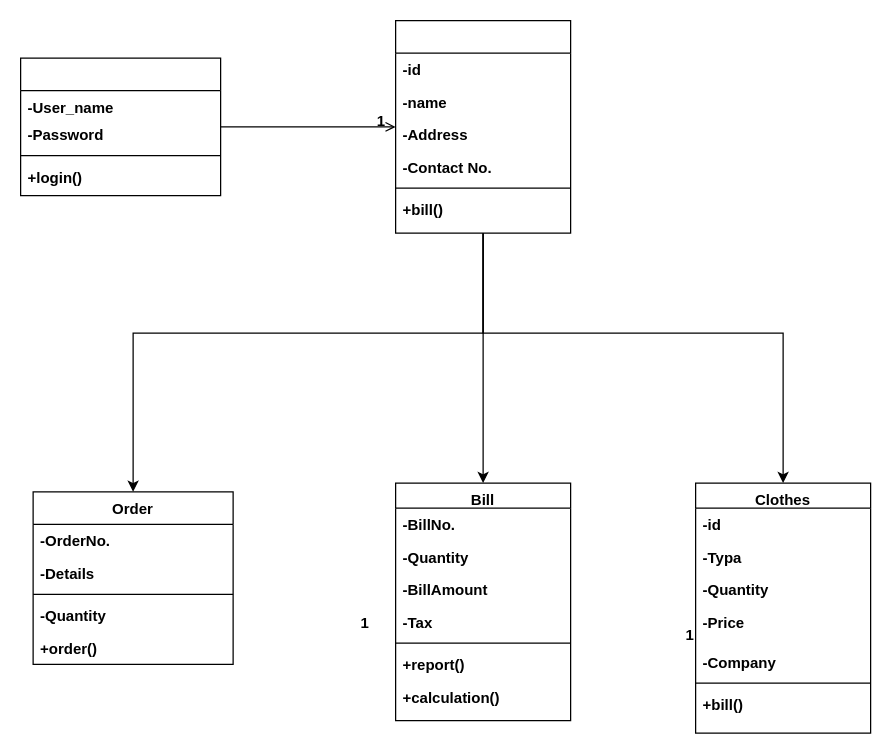
Image size: 891x754. Some labels were removed from this diagram. The shapes that lost their labels are listed below. From the top down, each one's box as (x1, y1, x2, y2) in pixels, then its label:
(19, 57, 221, 196): Admin
(394, 19, 571, 233): Customer
